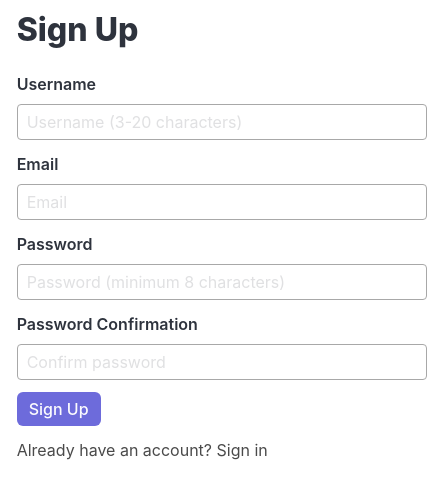
Scenario: SignupPage › shows loading state while submitting
Type "testuser" into the field with placeholder "Username (3-20 characters)".
click(222, 122); type("testuser")  # box [17,104,427,140]
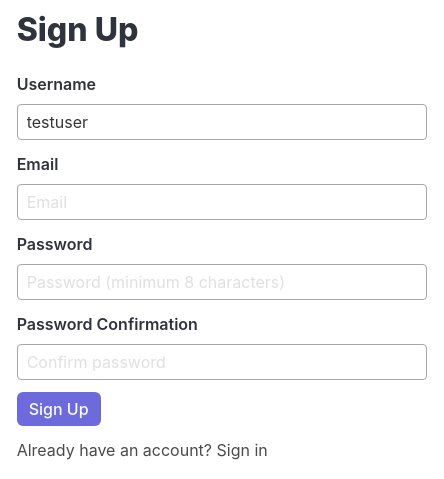
Type "test@example.com" into the field with placeholder "Email".
click(222, 202); type("test@example.com")  # box [17,184,427,220]
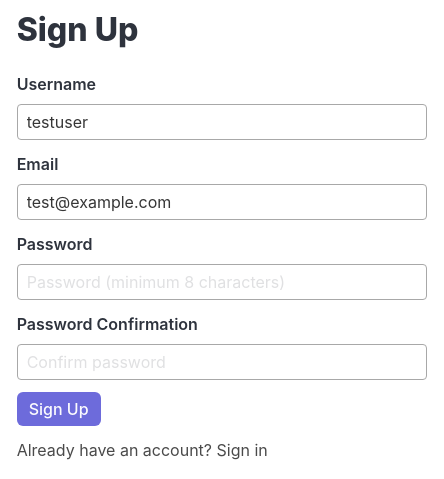
Type "password123" into the password field with placeholder "Password (minimum 8 characters)".
click(222, 282); type("password123")  # box [17,264,427,300]
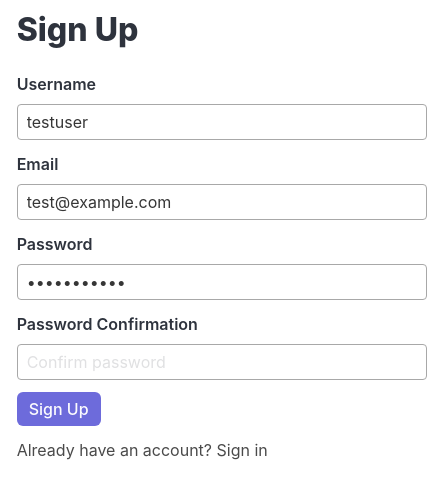
Type "password123" into the password field with placeholder "Confirm password".
click(222, 362); type("password123")  # box [17,344,427,380]
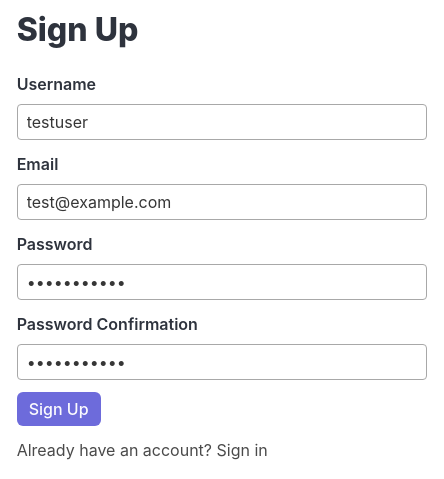
Submit the form
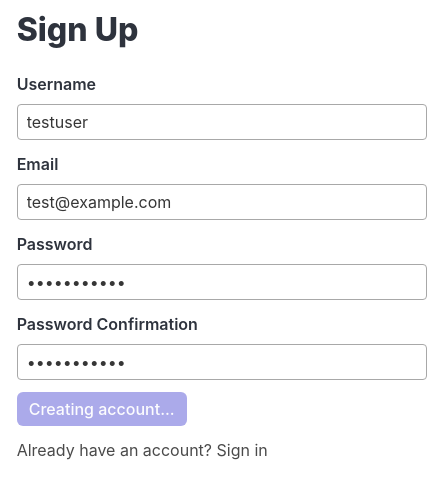
Expected: the submit button reads "Creating account...", [17,392,187,426]
Expected: the submit button is disabled, [17,392,187,426]
